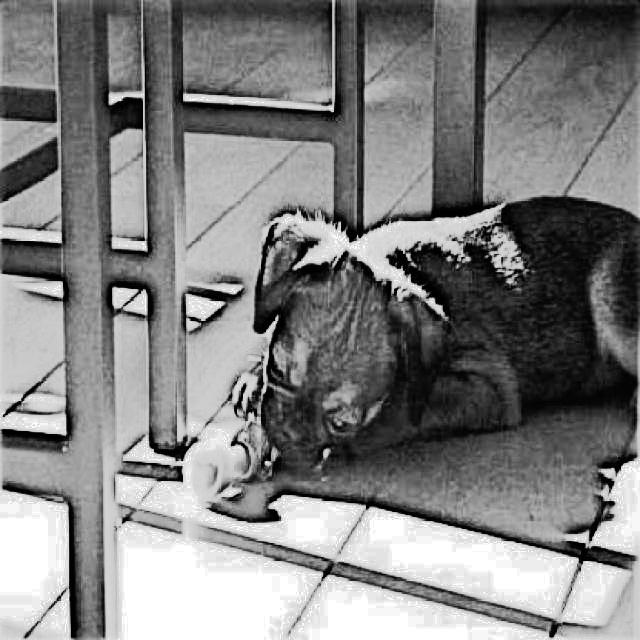Dog: (226, 182, 640, 487)
